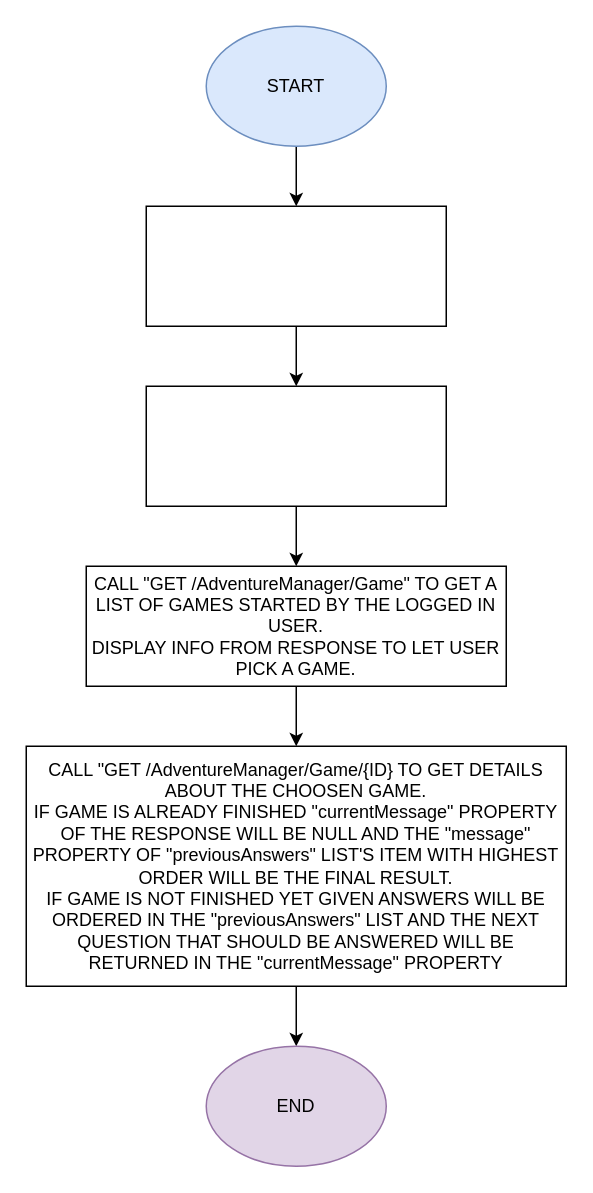
Some shapes in this 593 by 1193 pixel diagram are drawn without their labels. Here are the shapes that lost their labels. From the top down, the box of each, then its label:
(145, 205, 446, 326): CALL "POST /UserManager/Token" WITH VALID USER CREDENTIALS
(145, 385, 446, 506): SEND "token" PROPERTY OF RESPONSE IN SUBSEQUENT REQUESTS' AUTHORIZATION HEADERS
